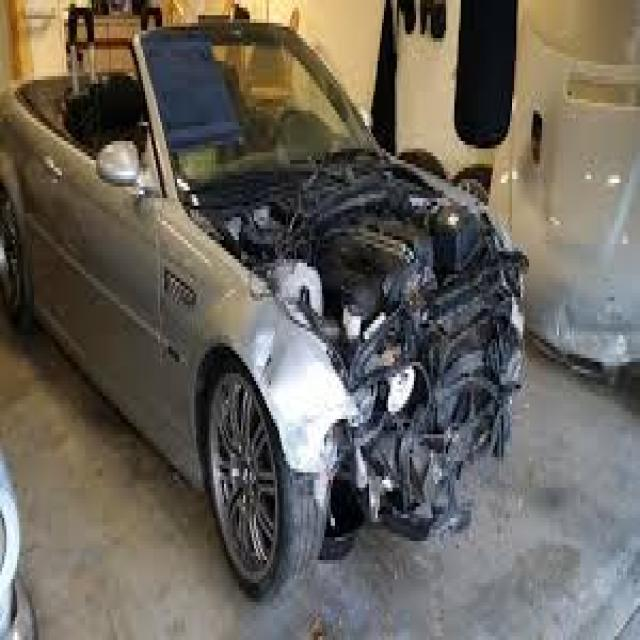moderate: (178, 143, 532, 556)
